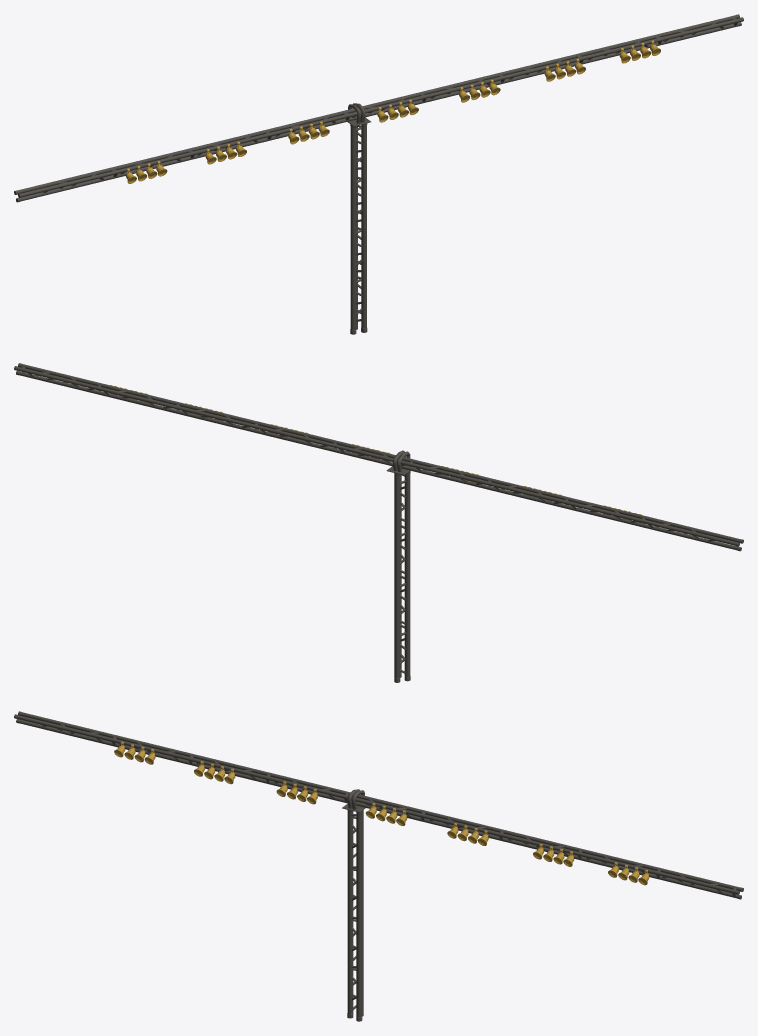
Rendered from StageStand_Color.fbx.
3 renders of one model, top to bottom at view 1: azimuth 30°, elevation 25°; view 2: azimuth 150°, elevation 25°; view 3: azimuth 330°, elevation 25°, orthographic.
Parts seen in each view (by area): view 1: Polls:pCylinder16, Polls:pCylinder15, Polls:pCylinder17, pCylinder15, pCylinder16; view 2: Polls:pCylinder15, Polls:pCylinder17, Polls:pCylinder16, pCylinder15, pCylinder17; view 3: Polls:pCylinder16, Polls:pCylinder15, Polls:pCylinder17, pCylinder15, pCylinder16.
Boxes of the visible parts, x1=… form: Polls:pCylinder16: x1=18, y1=17, x2=743, y2=197; Polls:pCylinder15: x1=14, y1=14, x2=739, y2=194; Polls:pCylinder17: x1=16, y1=22, x2=741, y2=202; pCylinder15: x1=350, y1=124, x2=356, y2=334; pCylinder16: x1=361, y1=123, x2=367, y2=332; Polls:pCylinder15: x1=14, y1=366, x2=739, y2=546; Polls:pCylinder17: x1=16, y1=370, x2=741, y2=551; Polls:pCylinder16: x1=18, y1=363, x2=743, y2=543; pCylinder15: x1=404, y1=471, x2=410, y2=681; pCylinder17: x1=394, y1=473, x2=400, y2=682; Polls:pCylinder16: x1=14, y1=714, x2=739, y2=894; Polls:pCylinder15: x1=18, y1=711, x2=743, y2=891; Polls:pCylinder17: x1=16, y1=719, x2=741, y2=899; pCylinder15: x1=347, y1=810, x2=353, y2=1018; pCylinder16: x1=356, y1=811, x2=362, y2=1021.
Bounding box in the file's own units: 242 × 72.63 × 7.99.
